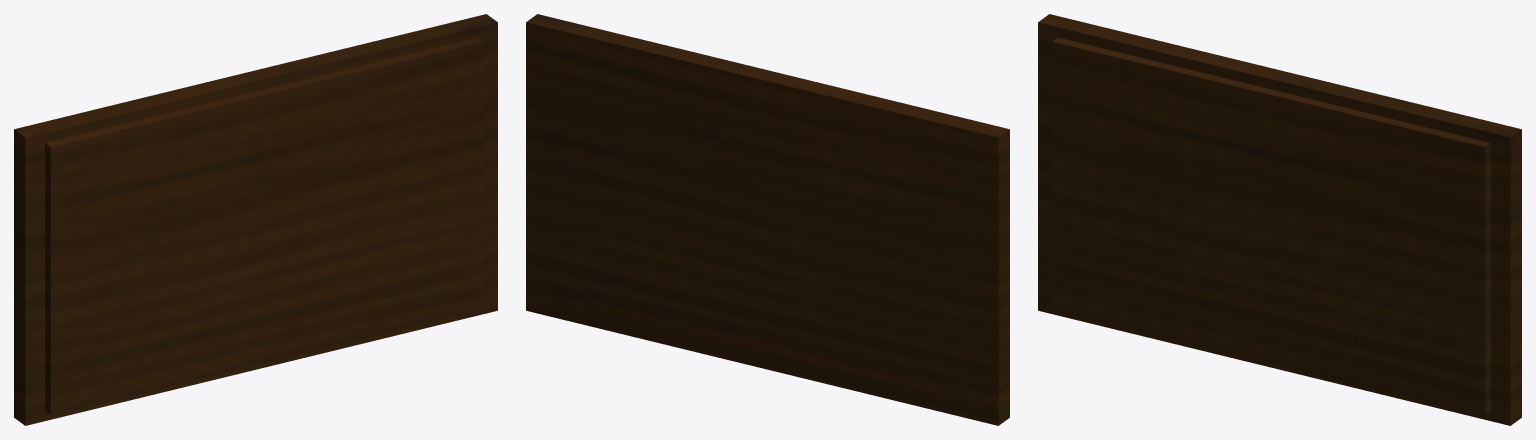
The model's file is link_8__drawer_front-29.glb.
The picture shows the model from 3 angles, left to right: view 1: azimuth 30°, elevation 25°; view 2: azimuth 150°, elevation 25°; view 3: azimuth 330°, elevation 25°; orthographic projection.
Visible parts, largest first — view 1: geometry_0; view 2: geometry_0; view 3: geometry_0.
Boxes of the visible parts, x1=… form: geometry_0: x1=14, y1=14, x2=497, y2=425; geometry_0: x1=526, y1=14, x2=1009, y2=425; geometry_0: x1=1038, y1=14, x2=1521, y2=425.
Bounding box in the file's own units: 0.126 × 0.0735 × 0.00788.
1 material, 1 textured.
